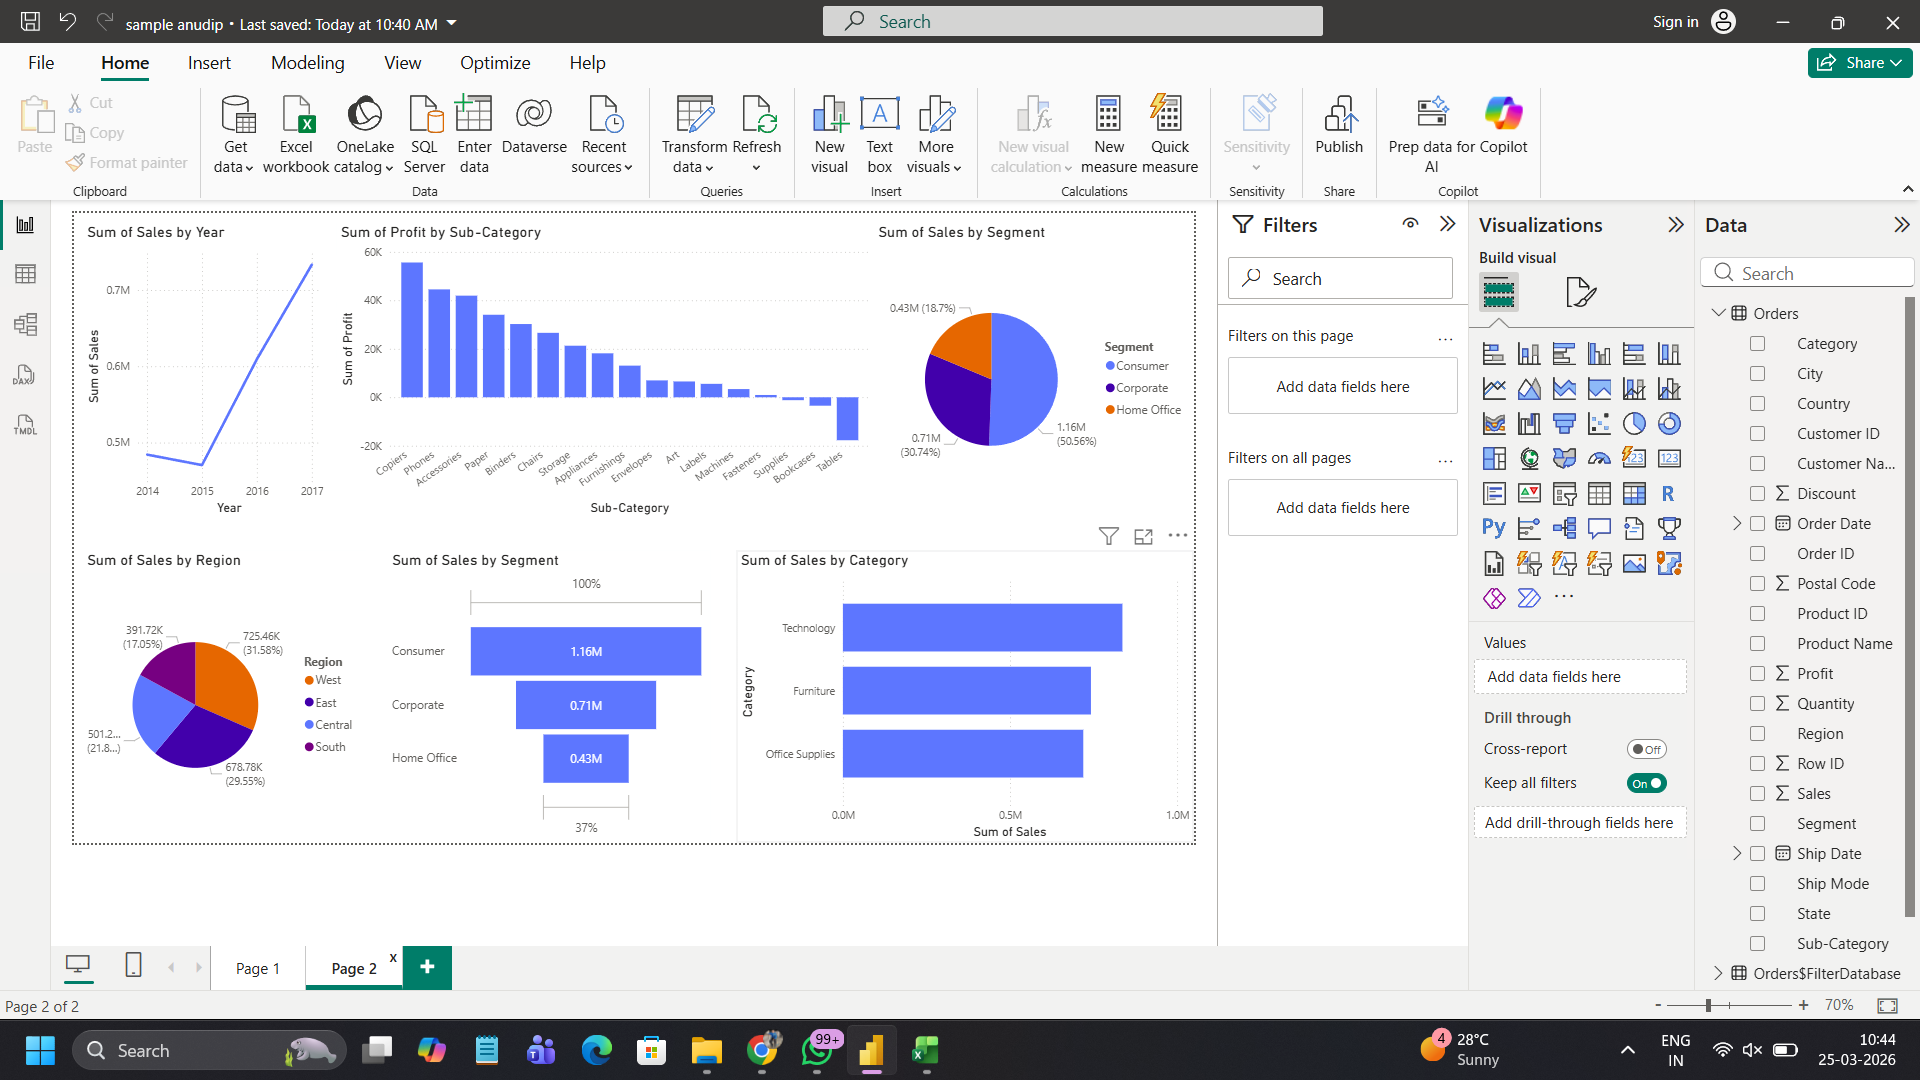

What the dashboard file says about the page in this screenshot:
{"tool":"powerbi","page":{"name":"Page 2","canvas":[1280,720],"ordinal":1},"visuals":[{"type":"lineChart","fields":{"Category":["Orders.Order Date.Variation.Date Hierarchy.Year","Orders.Order Date.Variation.Date Hierarchy.Quarter","Orders.Order Date.Variation.Date Hierarchy.Month","Orders.Order Date.Variation.Date Hierarchy.Day"],"Y":["Sum(Orders.Sales)"]},"box":[10,11.4,280,338.6],"z":0},{"type":"pieChart","fields":{"Category":["Orders.Region"],"Y":["Sum(Orders.Sales)"]},"box":[10,385.7,322.9,334.3],"z":1},{"type":"funnel","fields":{"Category":["Orders.Segment"],"Y":["Sum(Orders.Sales)"]},"box":[358.6,385.7,368.6,334.3],"z":2},{"type":"clusteredColumnChart","fields":{"Category":["Orders.Sub-Category"],"Y":["Sum(Orders.Profit)"]},"box":[300,11.4,614.3,338.6],"z":3},{"type":"clusteredBarChart","fields":{"Category":["Orders.Category"],"Y":["Sum(Orders.Sales)"]},"box":[757.1,385.7,522.9,334.3],"z":4},{"type":"pieChart","fields":{"Category":["Orders.Segment"],"Y":["Sum(Orders.Sales)"]},"box":[914.3,11.4,365.7,338.6],"z":5}]}

Visuals, with their boxes on the page's 1280x720 design canvas (x1, y1, x2, y2). These are canvas units, not pixel positions in the 1920x1080 screenshot, which may show the page scaled, cropped or inside an application window:
lineChart - Orders.Order Date.Variation.Date Hierarchy.Year x Orders.Order Date.Variation.Date Hierarchy.Quarter: bbox(10, 11, 290, 350)
pieChart - Orders.Region x Sum(Orders.Sales): bbox(10, 386, 333, 720)
funnel - Orders.Segment x Sum(Orders.Sales): bbox(359, 386, 727, 720)
clusteredColumnChart - Orders.Sub-Category x Sum(Orders.Profit): bbox(300, 11, 914, 350)
clusteredBarChart - Orders.Category x Sum(Orders.Sales): bbox(757, 386, 1280, 720)
pieChart - Orders.Segment x Sum(Orders.Sales): bbox(914, 11, 1280, 350)
